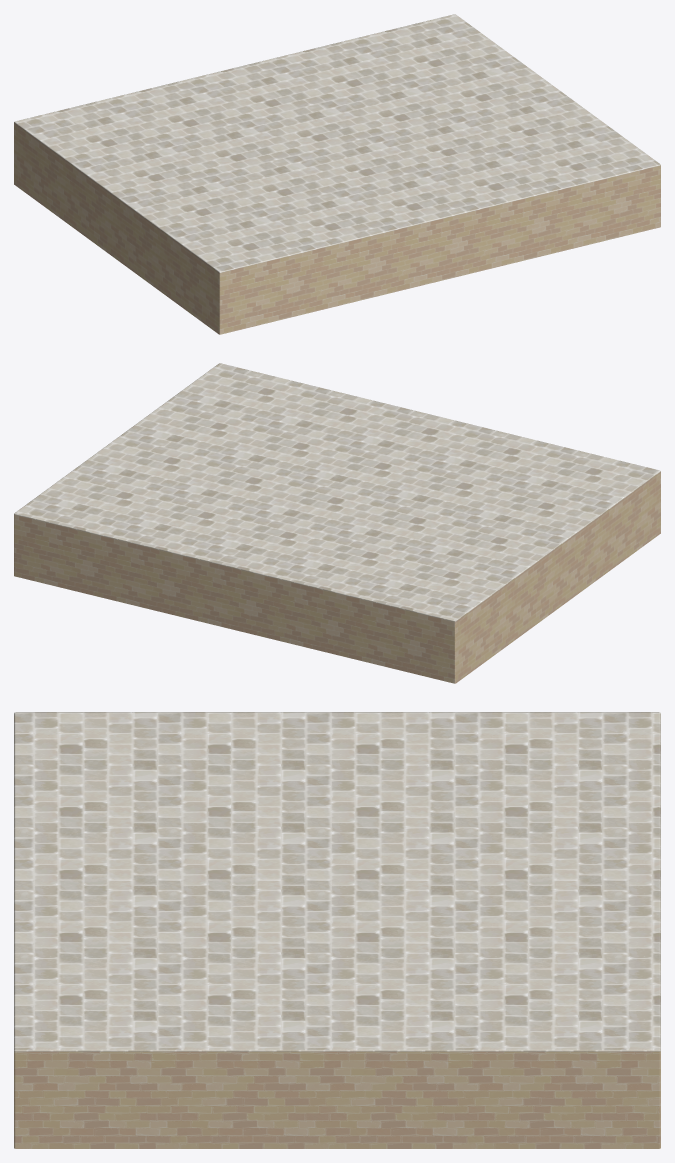
The model's file is SM_platform_01.fbx.
3 renders of one model, top to bottom at view 1: azimuth 30°, elevation 25°; view 2: azimuth 150°, elevation 25°; view 3: azimuth 270°, elevation 25°, orthographic. The views are drawn at different scales.
Parts seen in each view (by area): view 1: Object33204; view 2: Object33204; view 3: Object33204.
Part boxes in pixels (x1,y1,x2,y2): Object33204: [14, 14, 660, 334]; Object33204: [14, 363, 660, 683]; Object33204: [14, 712, 660, 1148].
Size of the model in its own units: 568 by 77.12 by 459.
